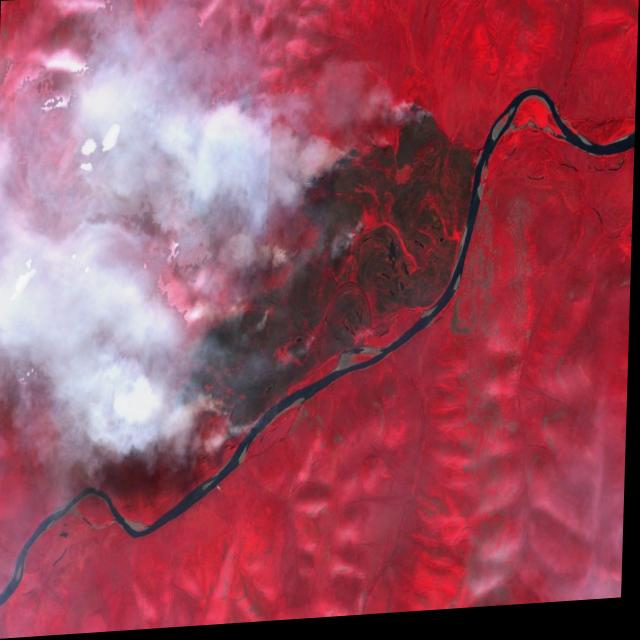fire: (191, 383, 257, 454), (274, 235, 317, 273), (256, 296, 283, 349), (407, 92, 439, 136), (345, 217, 371, 250)
